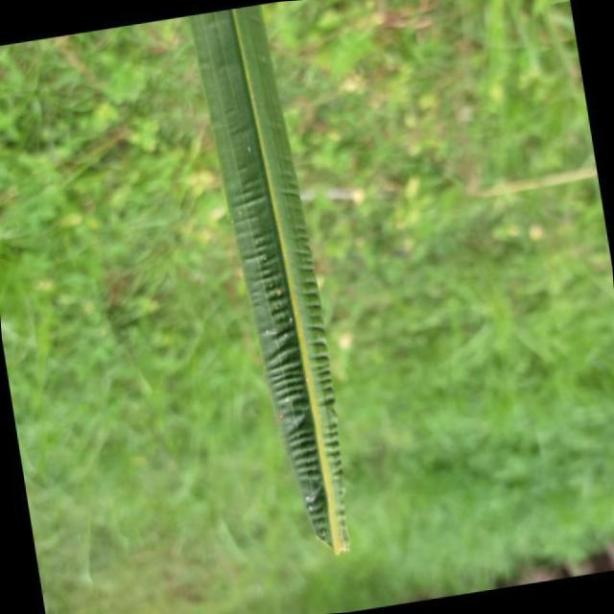Boron: (190, 0, 352, 560)
